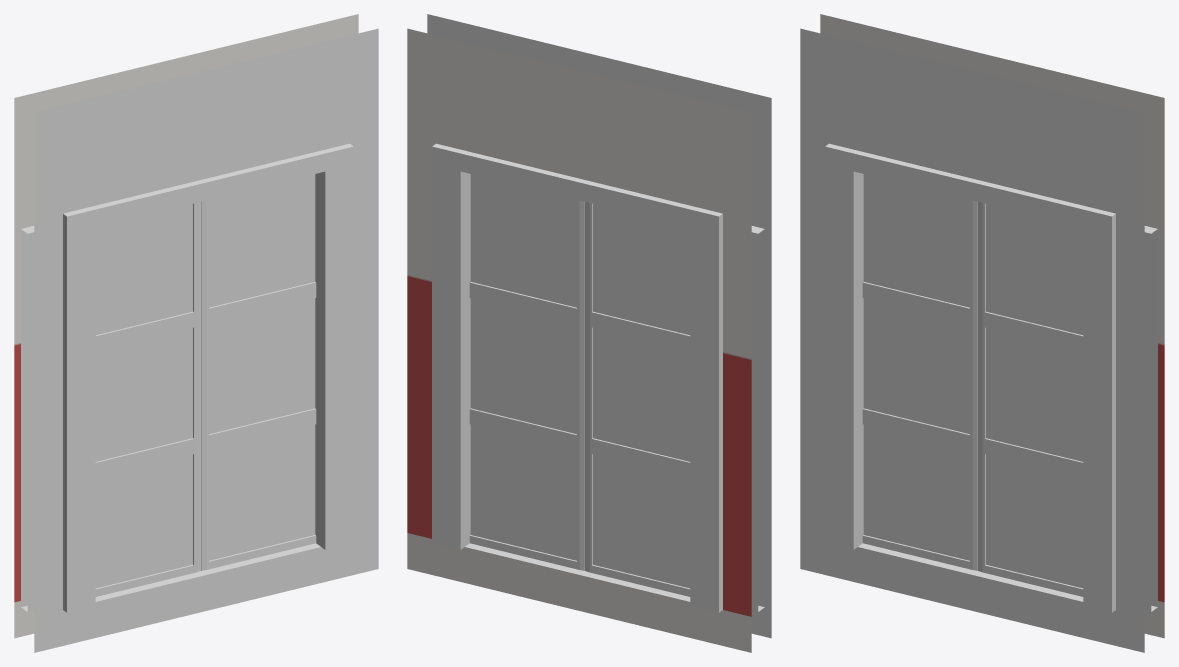
The model's file is ME_singledoor_2x2_W5.fbx.
3 views of the same model, side by side, from view 1: azimuth 30°, elevation 25°; view 2: azimuth 150°, elevation 25°; view 3: azimuth 330°, elevation 25° (orthographic).
Visible parts, largest first — view 1: ME_singledoor_2x2, ME_door; view 2: ME_singledoor_2x2, ME_door; view 3: ME_singledoor_2x2, ME_door.
Boxes of the visible parts, x1,y1,x2,y2 form: ME_singledoor_2x2: (14, 14, 378, 652); ME_door: (95, 174, 316, 596); ME_singledoor_2x2: (407, 14, 771, 652); ME_door: (469, 174, 690, 596); ME_singledoor_2x2: (800, 14, 1164, 652); ME_door: (862, 174, 1083, 596).
Size of the model in its own units: 2 by 3 by 0.28.
